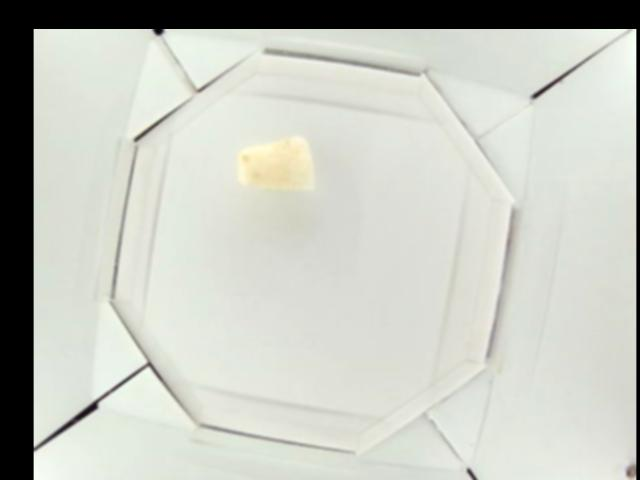Mooli: (235, 134, 315, 189)
